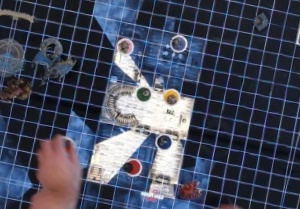blue: (154, 130, 175, 153)
green: (133, 82, 155, 103)
pink: (112, 34, 137, 59)
red: (122, 154, 145, 177)
violet: (167, 33, 190, 55)
yellow: (161, 83, 185, 107)
